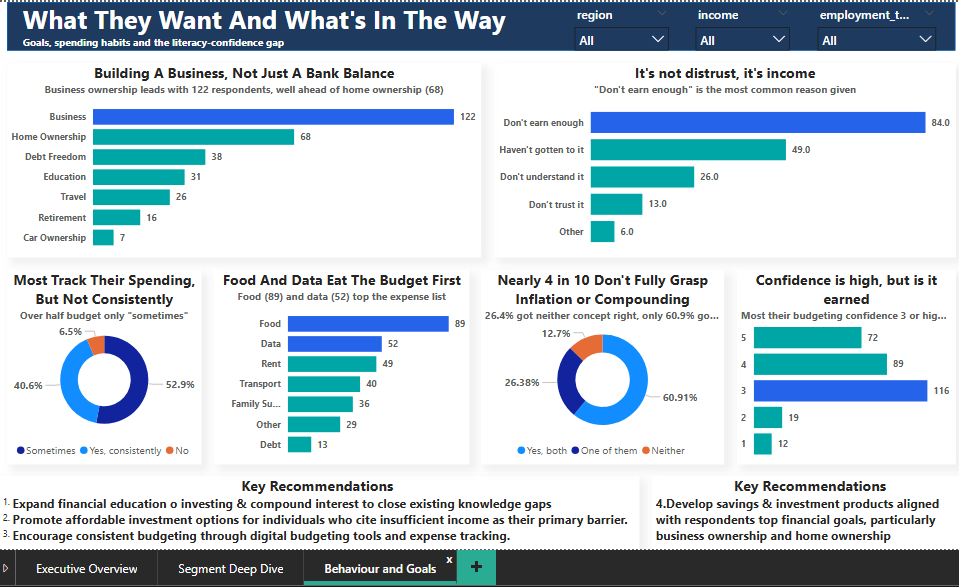

What the dashboard file says about the page in this screenshot:
{"tool":"powerbi","page":{"name":"Behaviour and Goals","canvas":[1280,720],"ordinal":2},"visuals":[{"type":"shape","box":[16,0,1248,64],"z":0},{"type":"barChart","title":"It''s not distrust, it''s income","fields":{"Category":["survey_responses.no_investment_reason_fixed"],"Y":["survey_responses.Not Investing"]},"box":[656,80,608,256],"z":1000},{"type":"barChart","title":"Building A Business, Not Just A Bank Balance","fields":{"Category":["survey_responses.fin_goal"],"Y":["survey_responses.Total Respondents"]},"box":[16,80,624,256],"z":2000},{"type":"donutChart","title":"Most Track Their Spending, But Not Consistently","fields":{"Category":["survey_responses.budget_spending"],"Y":["survey_responses.Total Respondents"]},"box":[16,352,256,256],"z":3000},{"type":"textbox","title":"Key Recommendations","box":[0,624,848,96],"z":4000},{"type":"slicer","fields":{"Values":["survey_responses.region"]},"box":[752,0,144,64],"z":5000},{"type":"slicer","fields":{"Values":["survey_responses.income"]},"box":[912,0,144,64],"z":6000},{"type":"slicer","fields":{"Values":["survey_responses.employment_type"]},"box":[1072,0,176,64],"z":7000},{"type":"textbox","title":"What They Want And What''s In The Way","box":[32,0,672,64],"z":8000},{"type":"barChart","title":"Food And Data Eat The Budget First","fields":{"Category":["survey_responses.biggest_expense"],"Y":["survey_responses.Total Respondents"]},"box":[288,352,336,256],"z":9000},{"type":"barChart","title":"Confidence is high, but is it earned","fields":{"Y":["survey_responses.Total Respondents"],"Category":["survey_responses.confidence_budgeting"]},"box":[976,352,288,256],"z":10000},{"type":"donutChart","title":"Nearly 4 in 10 Don''t Fully Grasp Inflation or Compounding","fields":{"Category":["survey_responses.inflation_compound_int"],"Y":["survey_responses.Total Respondents"]},"box":[640,352,320,256],"z":11000},{"type":"textbox","title":"Key Recommendations","box":[864,624,416,96],"z":12000}]}

Visuals, with their boxes on the page's 1280x720 design canvas (x1, y1, x2, y2). These are canvas units, not pixel positions in the 959x587 screenshot, which may show the page scaled, cropped or inside an application window:
shape: x1=16 y1=0 x2=1264 y2=64
"It''s not distrust, it''s income" barChart: x1=656 y1=80 x2=1264 y2=336
"Building A Business, Not Just A Bank Balance" barChart: x1=16 y1=80 x2=640 y2=336
"Most Track Their Spending, But Not Consistently" donutChart: x1=16 y1=352 x2=272 y2=608
"Key Recommendations" textbox: x1=0 y1=624 x2=848 y2=720
slicer - survey_responses.region: x1=752 y1=0 x2=896 y2=64
slicer - survey_responses.income: x1=912 y1=0 x2=1056 y2=64
slicer - survey_responses.employment_type: x1=1072 y1=0 x2=1248 y2=64
"What They Want And What''s In The Way" textbox: x1=32 y1=0 x2=704 y2=64
"Food And Data Eat The Budget First" barChart: x1=288 y1=352 x2=624 y2=608
"Confidence is high, but is it earned" barChart: x1=976 y1=352 x2=1264 y2=608
"Nearly 4 in 10 Don''t Fully Grasp Inflation or Compounding" donutChart: x1=640 y1=352 x2=960 y2=608
"Key Recommendations" textbox: x1=864 y1=624 x2=1280 y2=720
